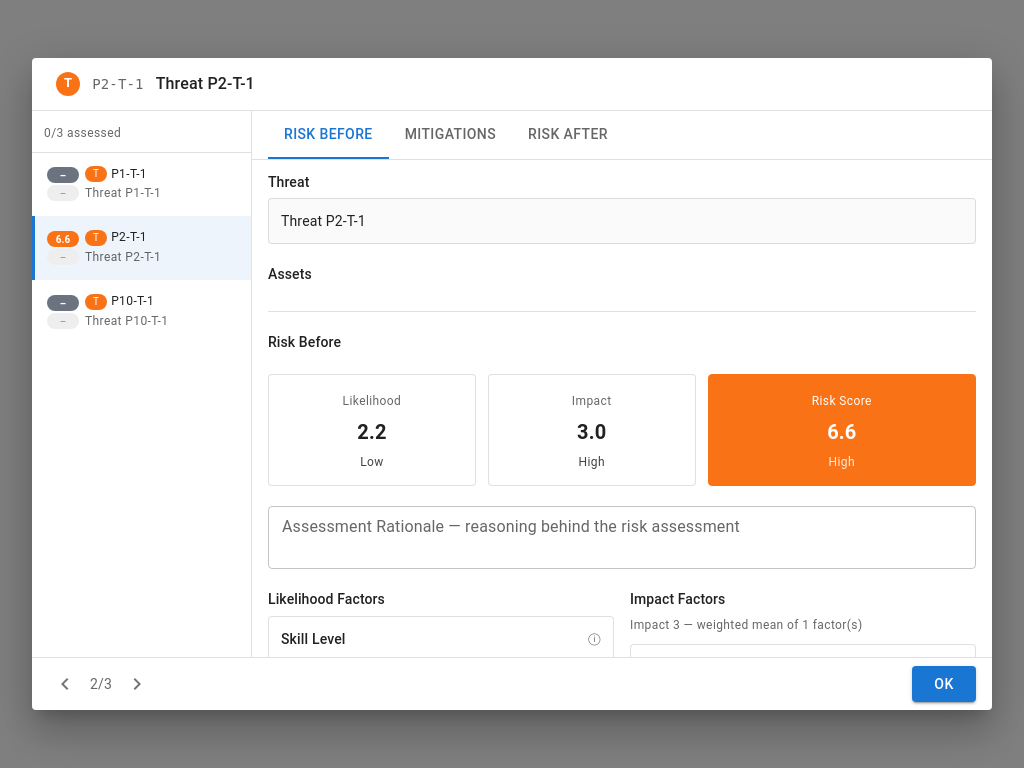
Test case: RiskDialog — order and navigation › saves the current risk on next / previous and moves
Click the 5th button: (137, 684) [120, 667, 154, 701]
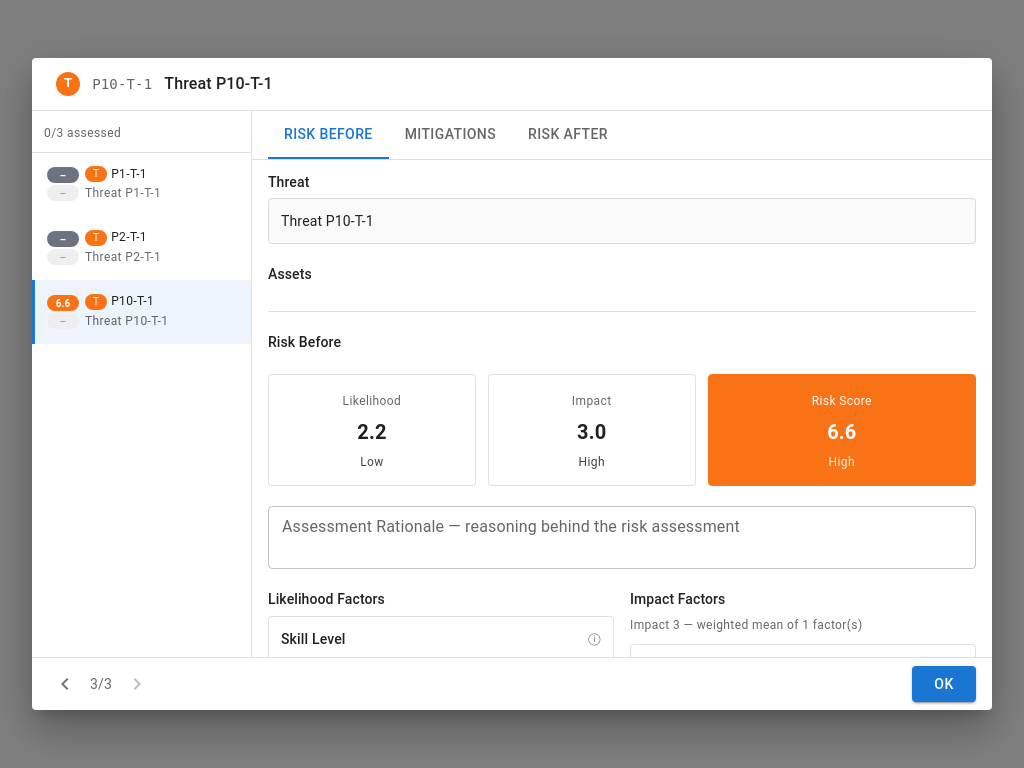
expect the heading "T P10-T-1 Threat P10-T-1" is shown: met, box [32, 58, 992, 111]
expect the 5th button is disabled: met, box [120, 667, 154, 701]
